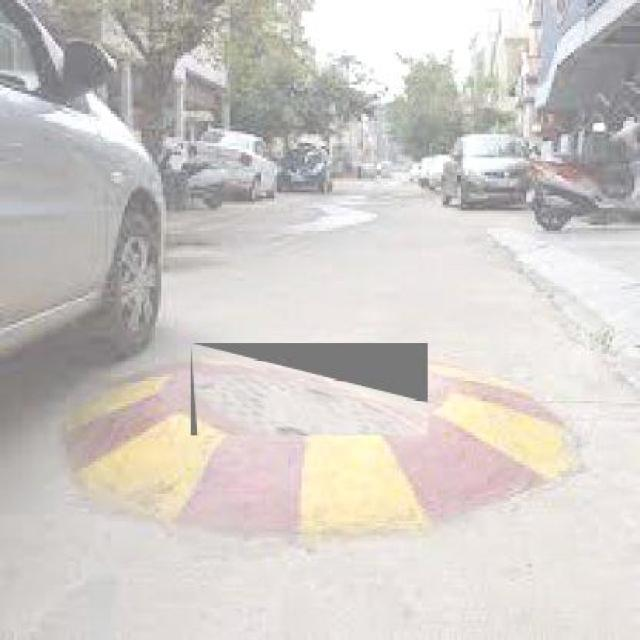Manhole: (190, 343, 428, 436)
